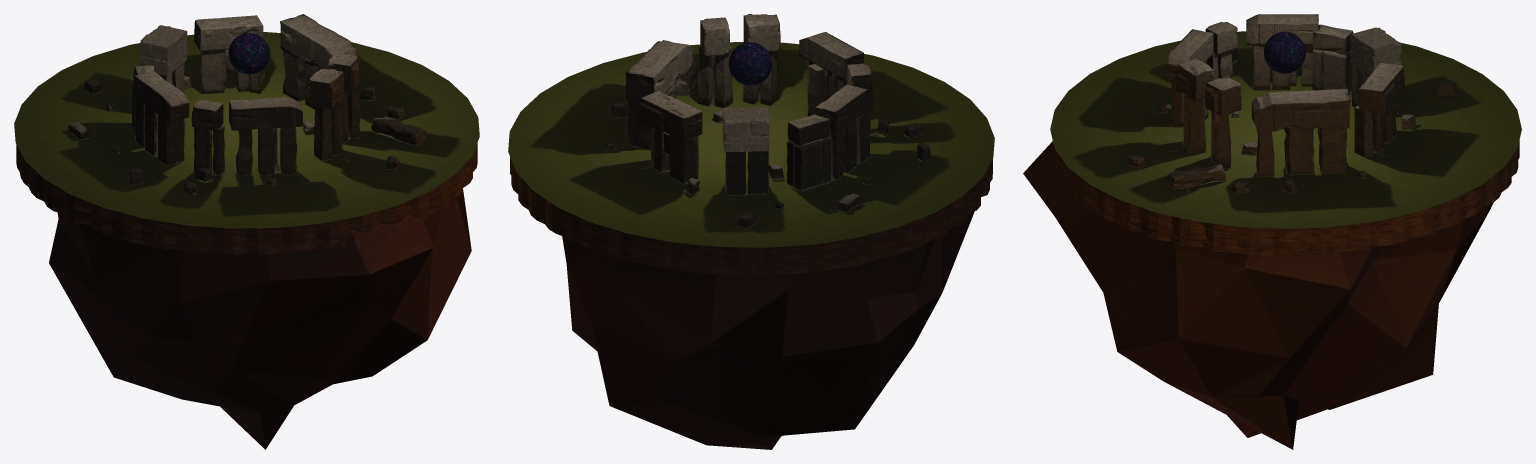
Rendered from stonehenge-baked.glb.
3 renders of one model, left to right at view 1: azimuth 30°, elevation 25°; view 2: azimuth 150°, elevation 25°; view 3: azimuth 270°, elevation 25°, orthographic. The views are drawn at different scales.
Parts seen in each view (by area): view 1: baked-0, baked-1, baked-2; view 2: baked-0, baked-1, baked-2; view 3: baked-0, baked-1, baked-2.
Part boxes in pixels (<box>): baked-0: <box>14,32,479,449</box>; baked-1: <box>68,14,426,194</box>; baked-2: <box>228,33,269,74</box>; baked-0: <box>508,42,994,449</box>; baked-1: <box>607,14,930,228</box>; baked-2: <box>728,42,771,85</box>; baked-0: <box>1023,31,1521,449</box>; baked-1: <box>1127,14,1453,194</box>; baked-2: <box>1264,31,1305,73</box>.
Size of the model in its own units: 22.54 by 21.37 by 23.83.
3 materials, 3 textured.
